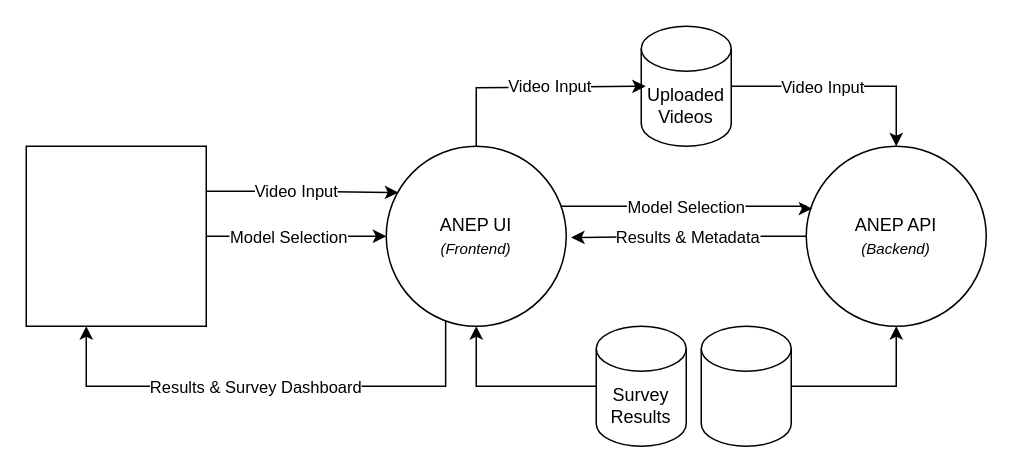
Image size: 1013x473. Some labels were removed from this diagram. The centre of each missing label's shape, as x and y in pixels:
NGD: the point at 745,385
User: the point at 115,235
